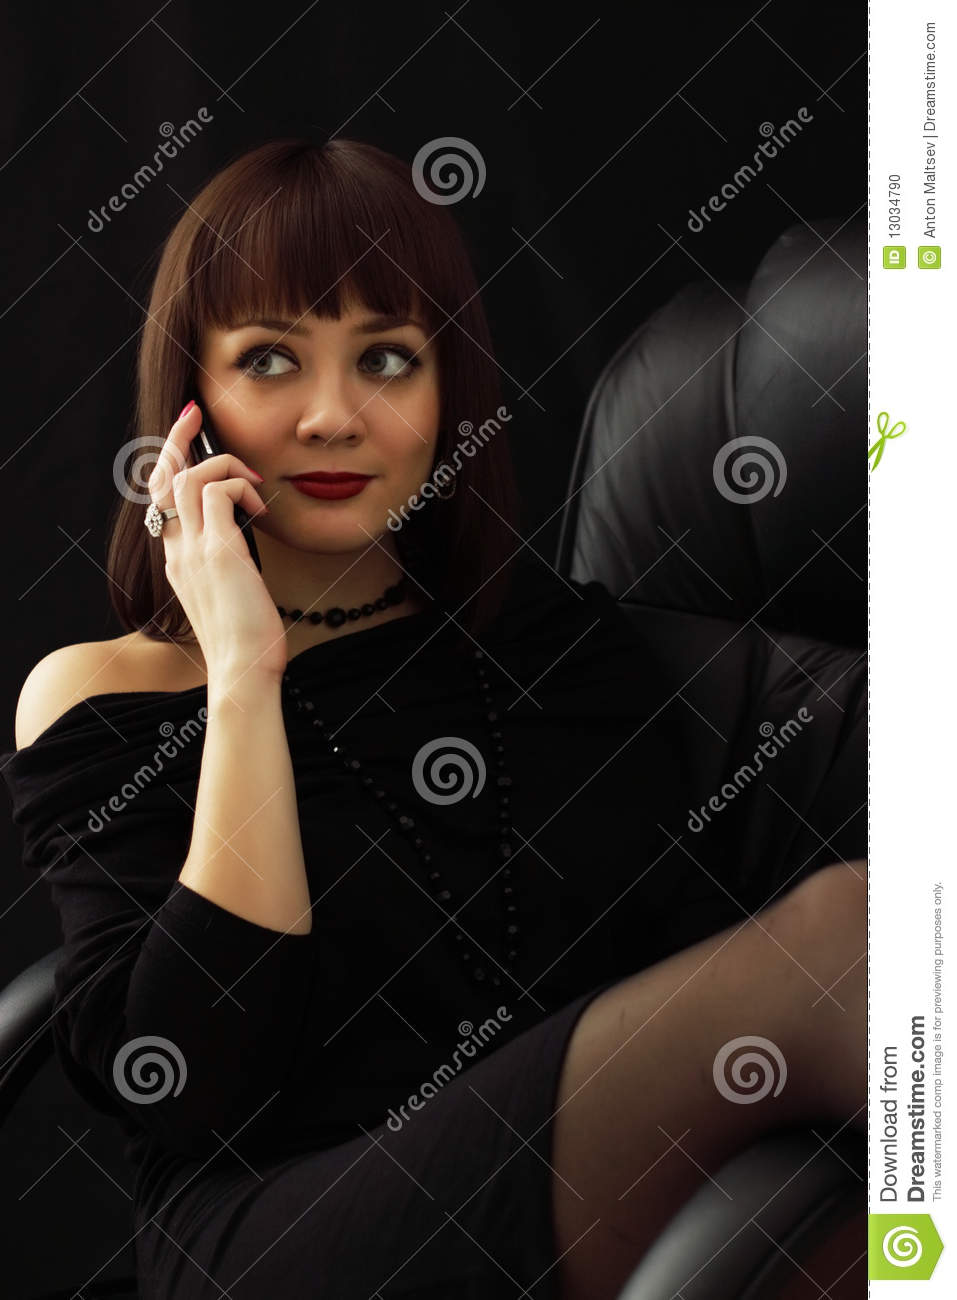phone: (183, 410, 256, 550)
talk: (149, 292, 445, 677)
